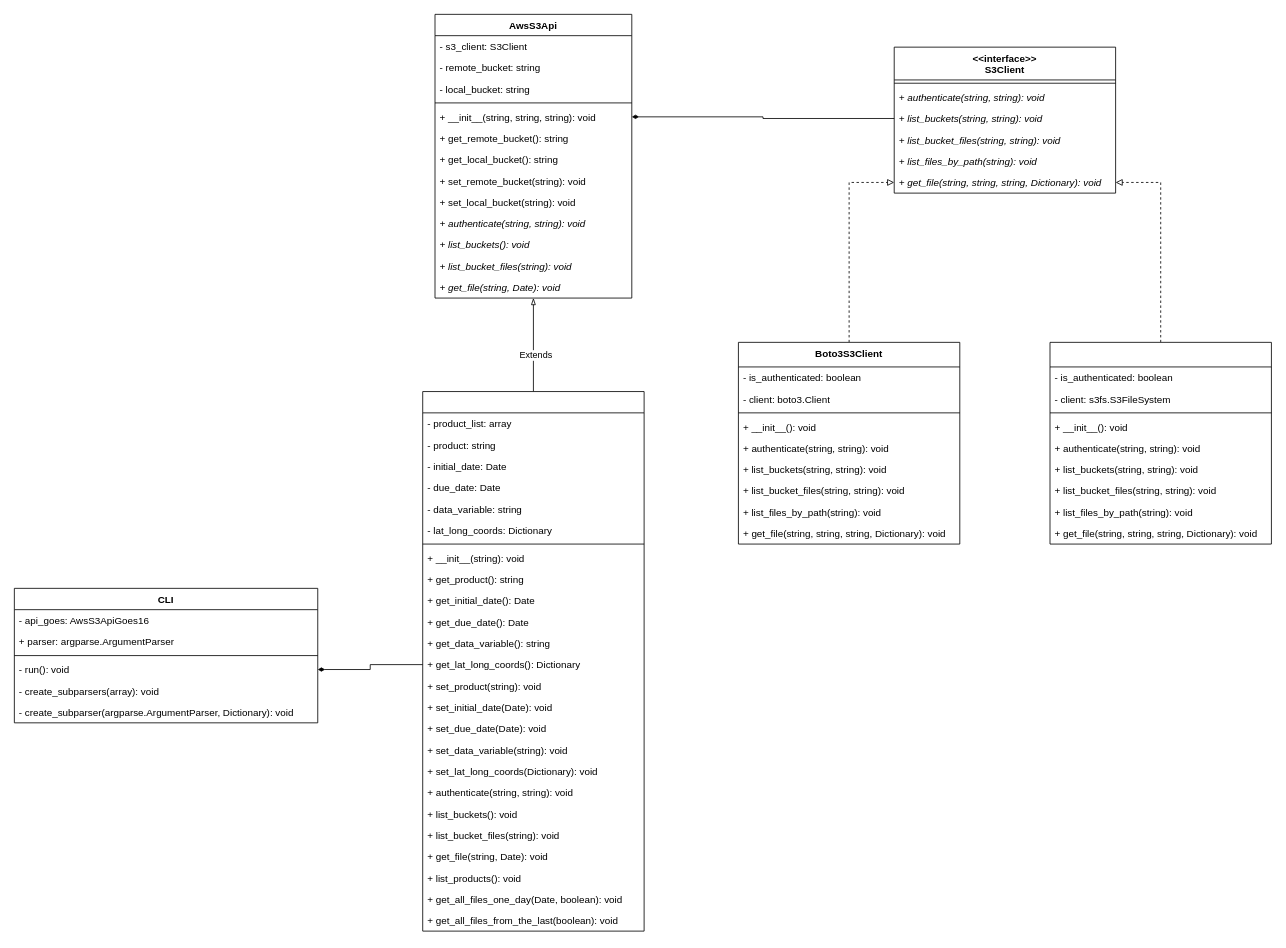
Image size: 1286x948. Some labels were removed from this diagram. Here are the shapes that lost their labels. From the top down, the box of each, then its label:
(1049, 342, 1271, 544): S3fsS3Client
(422, 391, 644, 931): AwsS3ApiGoes16
